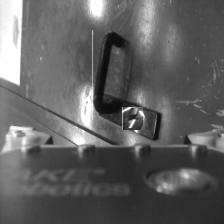Door Handle: (92, 30, 125, 120)
Lock: (121, 107, 144, 130)
